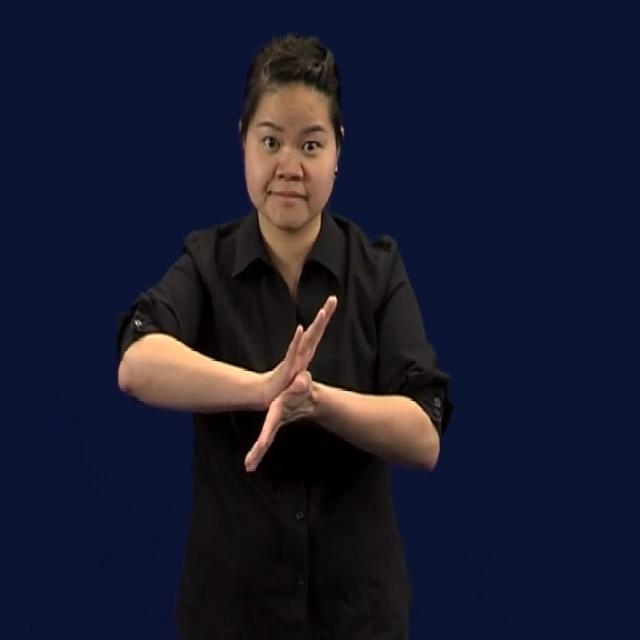cheese: (240, 279, 344, 481)
